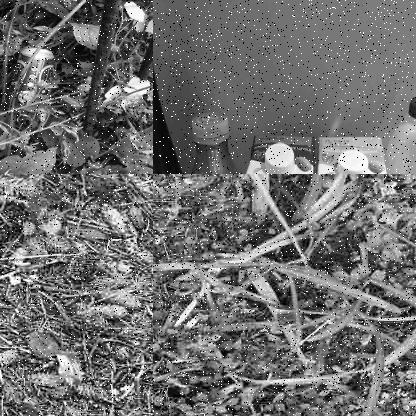glass: (153, 0, 197, 173)
metal: (6, 46, 58, 109)
plastic: (185, 106, 248, 173), (49, 345, 92, 392)
